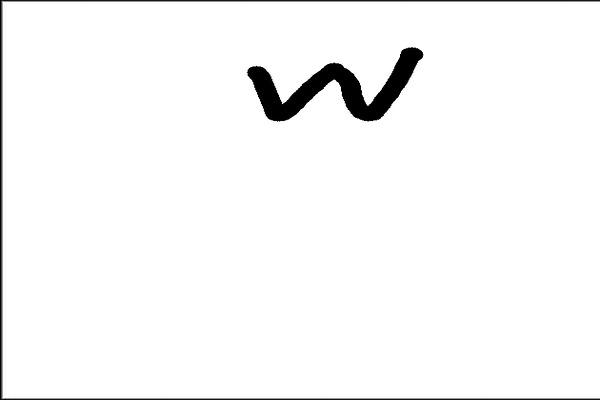w: (231, 31, 435, 146)
